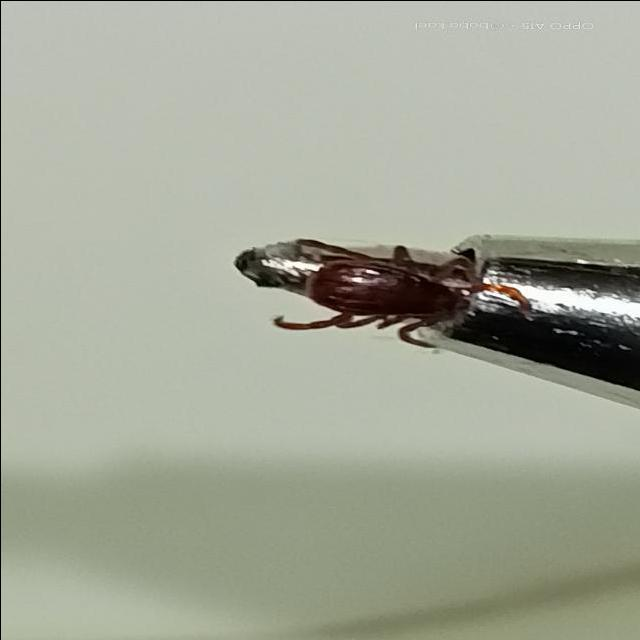Rhipicephalus Sanguineus-M: (273, 238, 528, 346)
